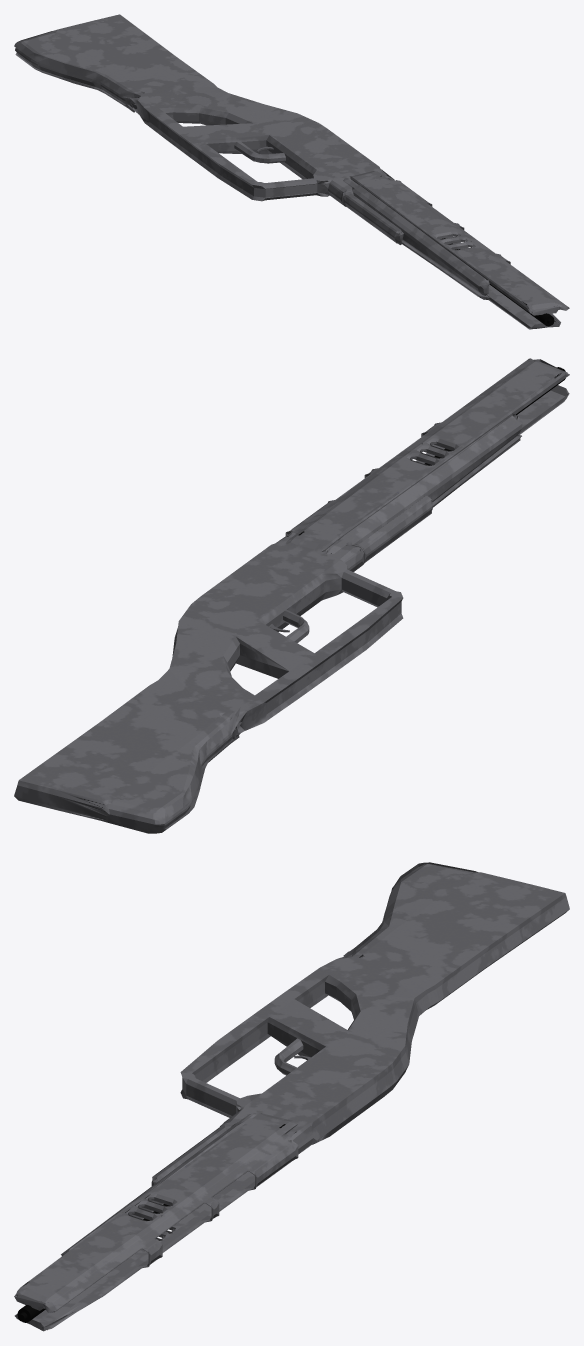
File: escopeta.obj
3 renders of one model, top to bottom at view 1: azimuth 30°, elevation 25°; view 2: azimuth 150°, elevation 25°; view 3: azimuth 330°, elevation 25°, orthographic. The views are drawn at different scales.
Visible parts, largest first — view 1: Cylinder001; view 2: Cylinder001; view 3: Cylinder001.
Part boxes in pixels (bbox=[...]): Cylinder001: bbox=[14, 14, 569, 329]; Cylinder001: bbox=[14, 358, 569, 833]; Cylinder001: bbox=[14, 862, 569, 1331].
Size of the model in its own units: 3.08 by 0.4618 by 15.04.
1 material, 1 textured.
